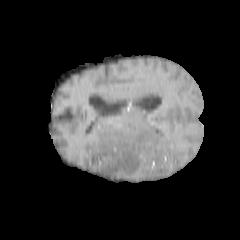glioma: (85, 120, 174, 177)
